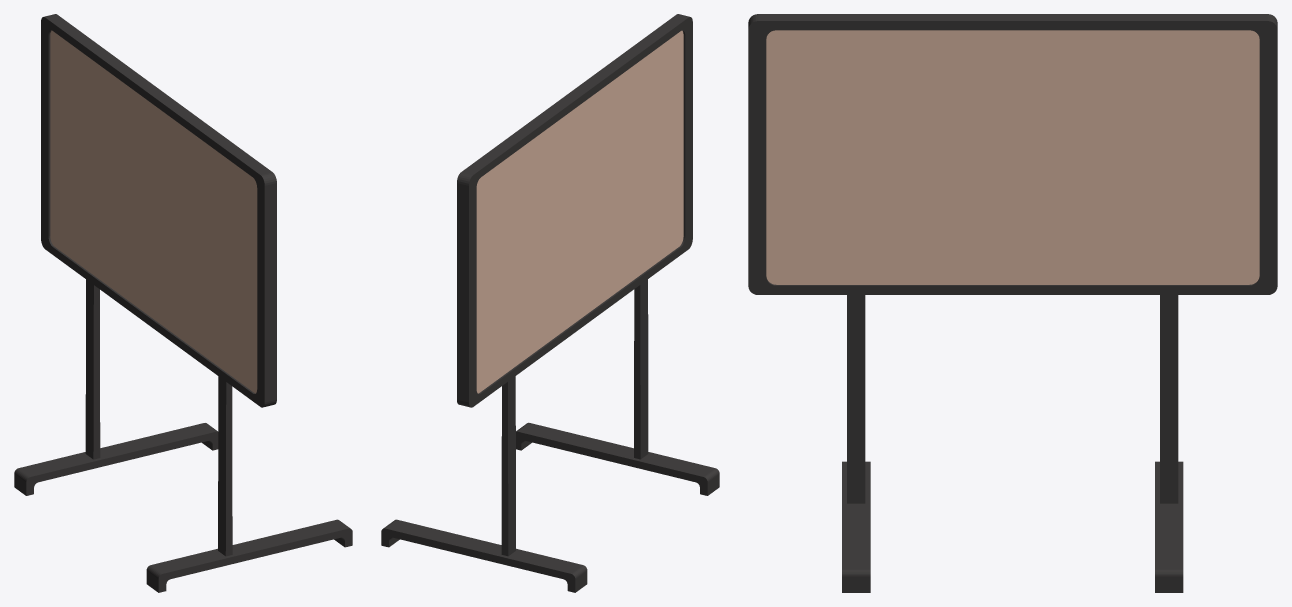
Rendered from doska.fbx.
3 renders of one model, left to right at view 1: azimuth 30°, elevation 25°; view 2: azimuth 150°, elevation 25°; view 3: azimuth 270°, elevation 25°, orthographic. The views are drawn at different scales.
Visible parts, largest first — view 1: Cube.002; view 2: Cube.002; view 3: Cube.002.
Boxes of the visible parts, x1,y1,x2,y2 form: Cube.002: (14,14,352,592); Cube.002: (381,14,719,592); Cube.002: (748,14,1277,592).
Bounding box in the file's own units: 93.08 × 196 × 186.
